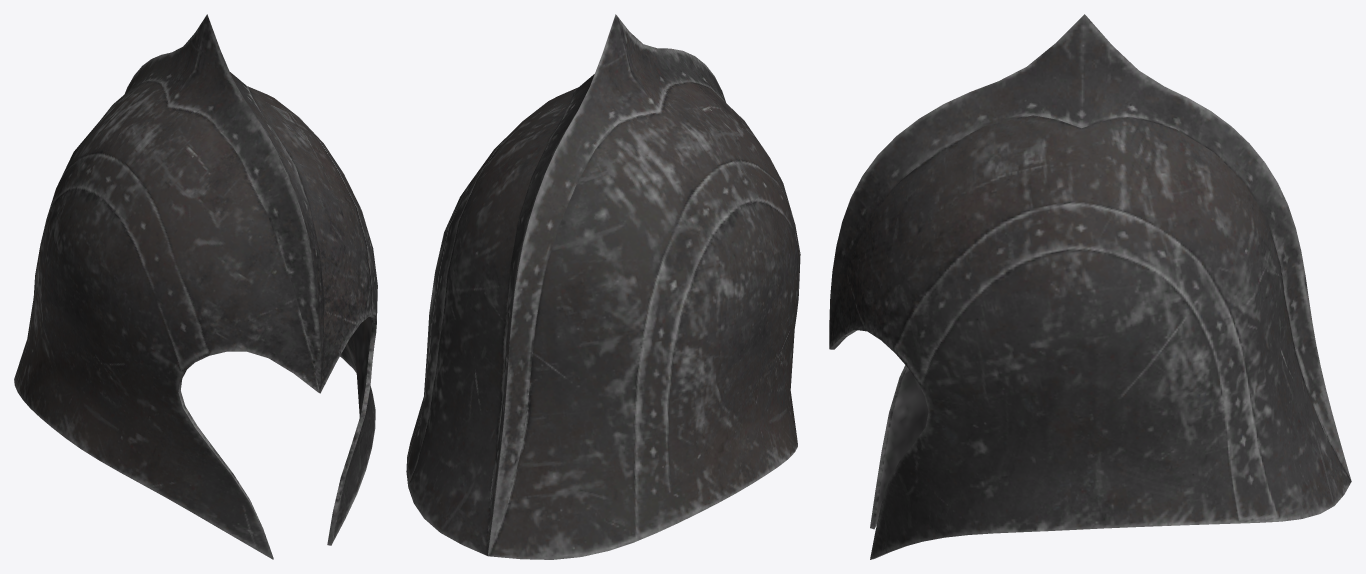
The model's file is sk_uruk_mordor_helmet_medium_b1.fbx.
3 renders of one model, left to right at view 1: azimuth 30°, elevation 25°; view 2: azimuth 150°, elevation 25°; view 3: azimuth 270°, elevation 25°, orthographic. The views are drawn at different scales.
Visible parts, largest first — view 1: sk_uruk_mordor_helmet_medium_b1; view 2: sk_uruk_mordor_helmet_medium_b1; view 3: sk_uruk_mordor_helmet_medium_b1.
Boxes of the visible parts, x1,y1,x2,y2 form: sk_uruk_mordor_helmet_medium_b1: [14, 14, 377, 559]; sk_uruk_mordor_helmet_medium_b1: [406, 14, 800, 559]; sk_uruk_mordor_helmet_medium_b1: [829, 14, 1351, 559].
Size of the model in its own units: 0.2211 by 0.3012 by 0.3373.
Materials: 1 (1 with a texture image).
